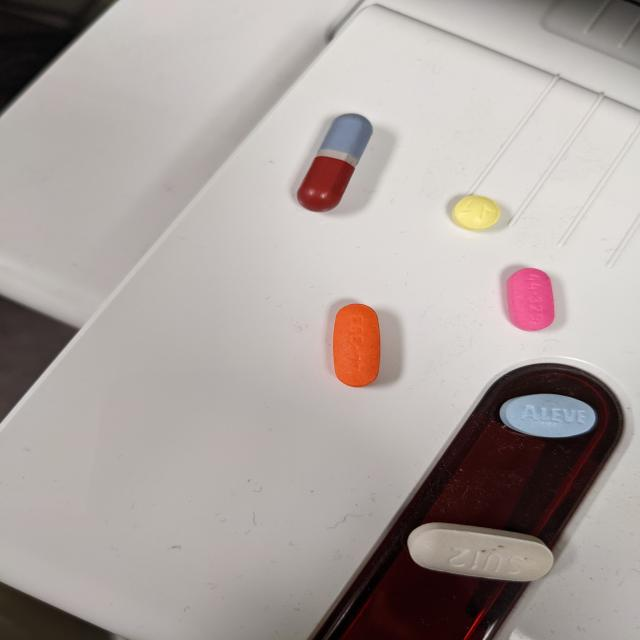non-organic waste: (406, 520, 556, 584), (296, 112, 374, 214), (498, 392, 596, 439), (331, 302, 382, 389), (504, 266, 556, 332), (451, 194, 502, 233)
